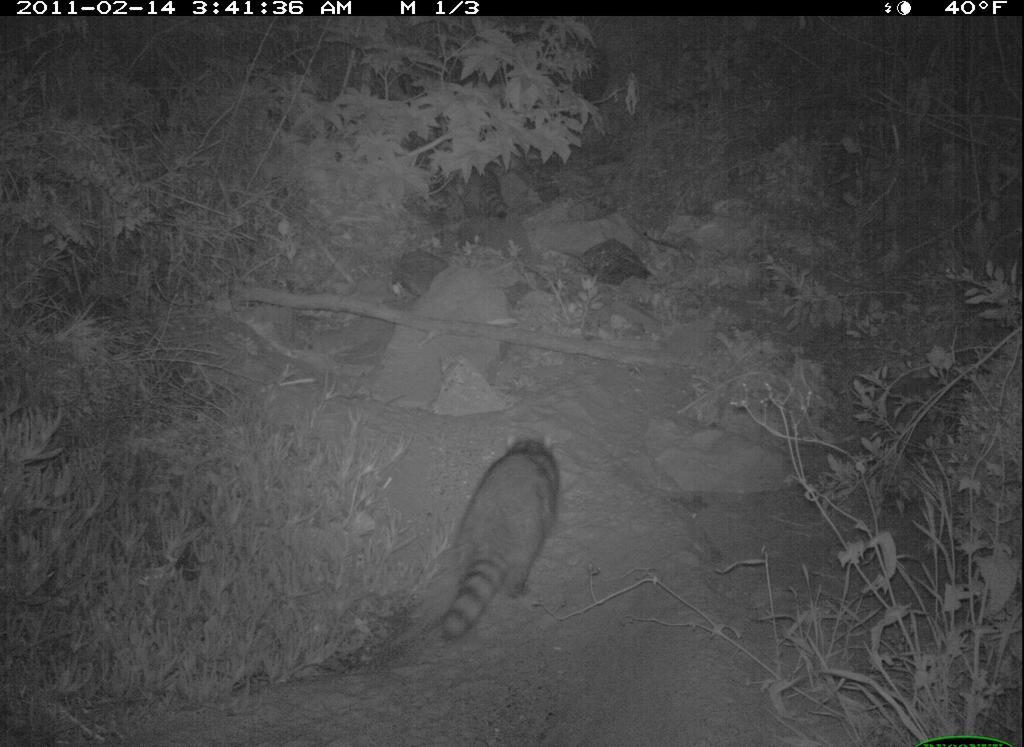raccoon: (432, 430, 571, 661)
